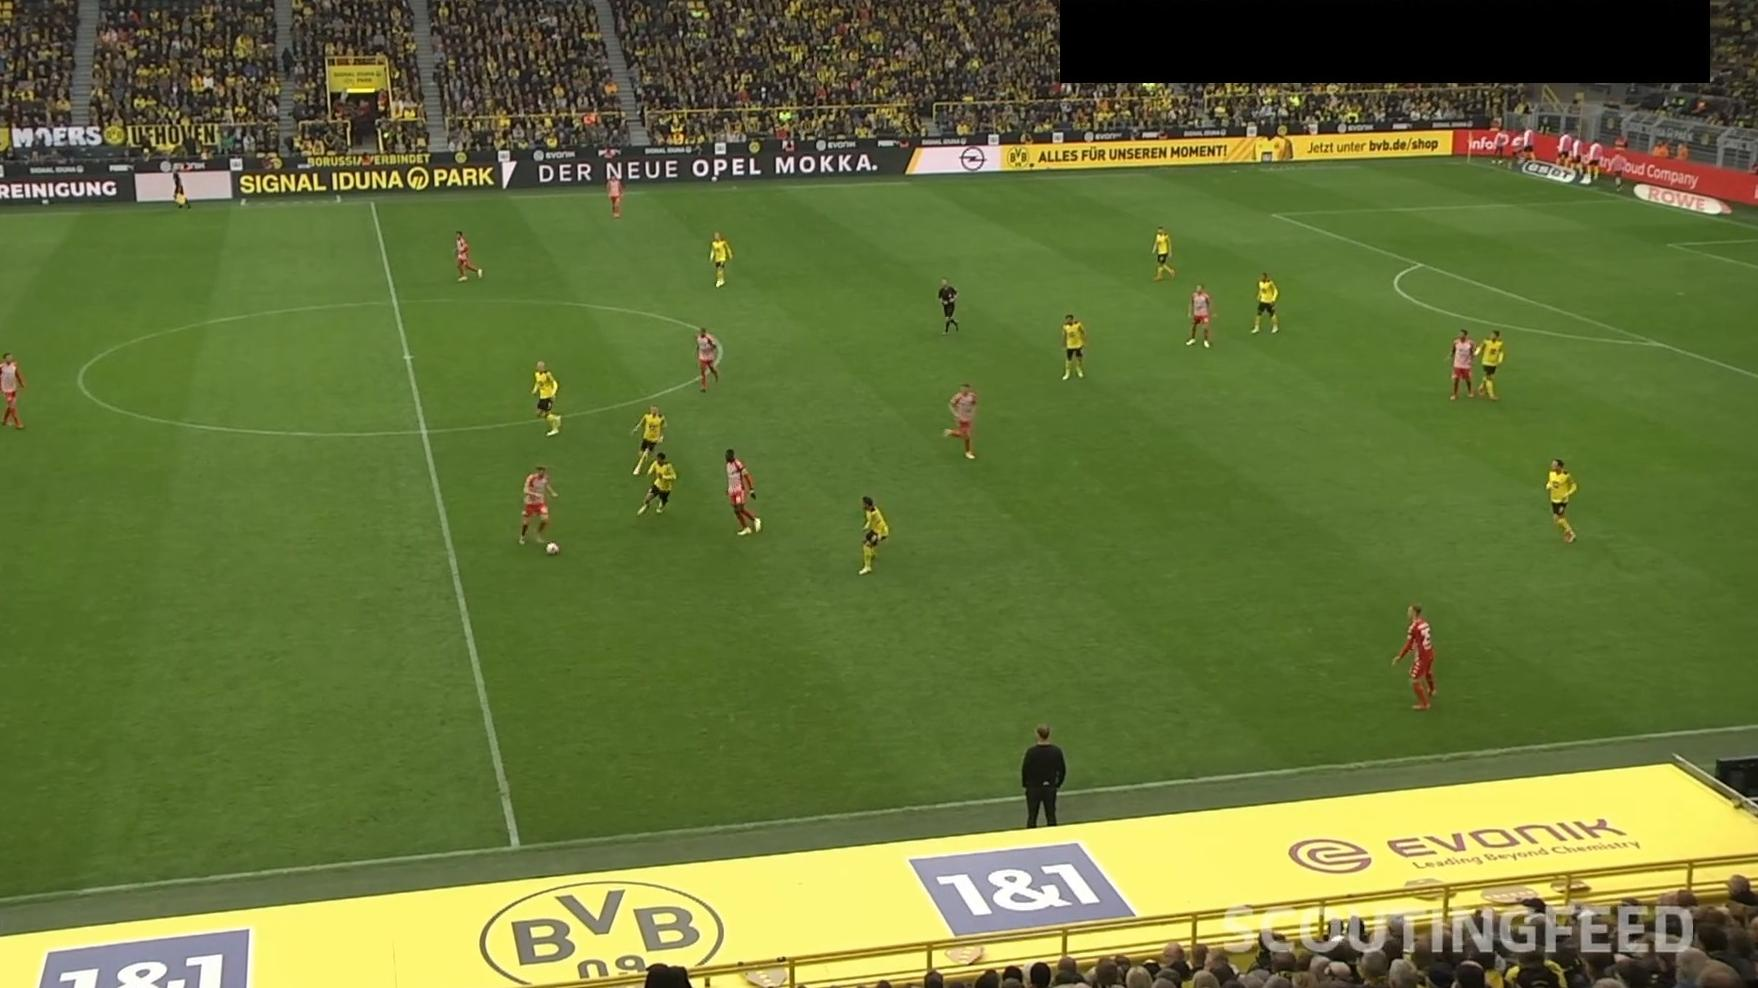ball: (545, 540, 563, 557)
